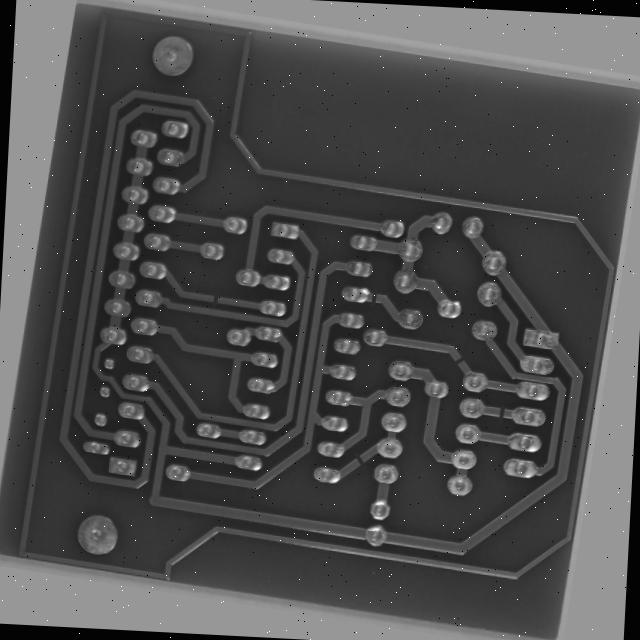open_circuit: (466, 337, 486, 359), (369, 279, 386, 299), (523, 391, 538, 412), (372, 459, 390, 476), (195, 303, 212, 316)
